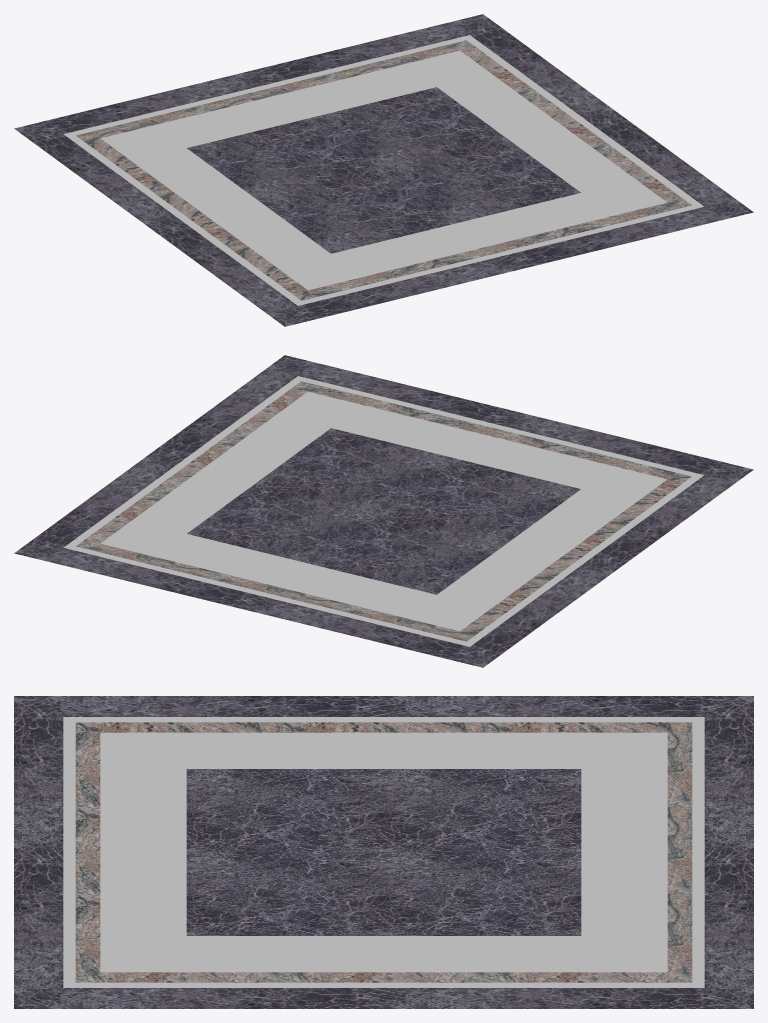
The model's file is Floor_3.FBX.
3 renders of one model, top to bottom at view 1: azimuth 30°, elevation 25°; view 2: azimuth 150°, elevation 25°; view 3: azimuth 270°, elevation 25°, orthographic. The views are drawn at different scales.
Visible parts, largest first — view 1: Floor_3; view 2: Floor_3; view 3: Floor_3.
Boxes of the visible parts, x1,y1,x2,y2 form: Floor_3: (14, 14, 753, 326); Floor_3: (14, 355, 753, 667); Floor_3: (14, 696, 753, 1008).
Size of the model in its own units: 6 by 1.06e-06 by 6.
